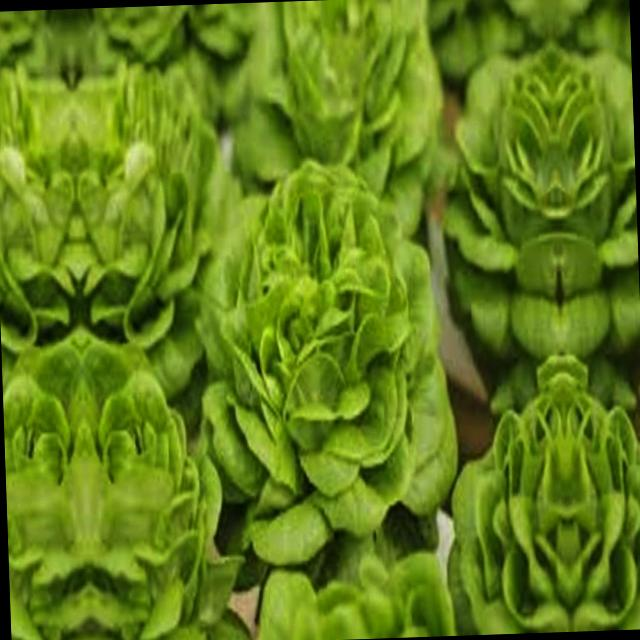healthy: (194, 164, 457, 576), (224, 0, 459, 254), (71, 59, 239, 363), (81, 347, 237, 640), (441, 51, 563, 402), (440, 384, 570, 636), (551, 48, 640, 398), (1, 352, 91, 640), (0, 64, 81, 366), (562, 380, 640, 631)
